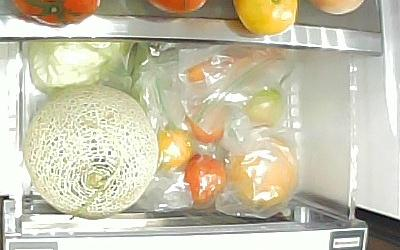cabbage: (26, 42, 135, 93)
carrot_vinyl: (182, 50, 288, 83)
melon: (24, 86, 158, 220)
pear: (228, 139, 299, 207)
prune_vinyl: (183, 155, 226, 210)
tangerine_vinyl: (157, 129, 191, 174)
tomato_vinyl: (185, 99, 226, 143), (241, 88, 285, 128)
